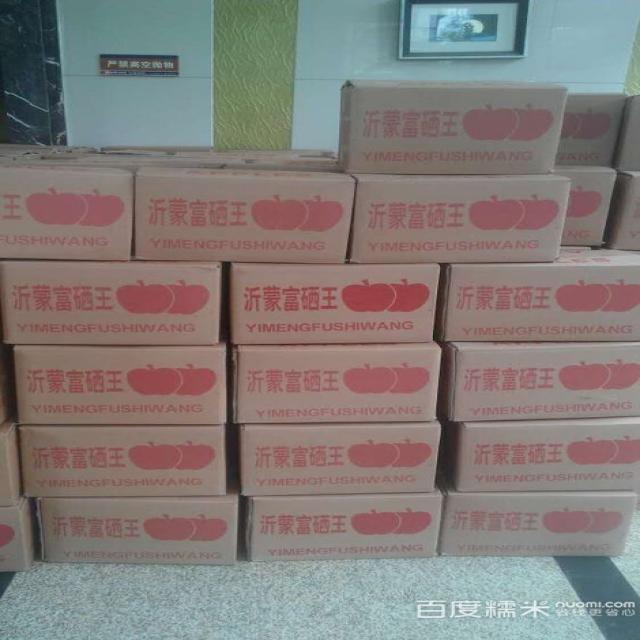Carton: (139, 169, 438, 340), (12, 425, 237, 565), (444, 264, 639, 417), (240, 424, 438, 560), (345, 83, 571, 168), (351, 171, 564, 260), (0, 261, 222, 343), (11, 343, 222, 423), (231, 346, 437, 422), (436, 494, 636, 560), (453, 420, 639, 490), (0, 167, 131, 259)
